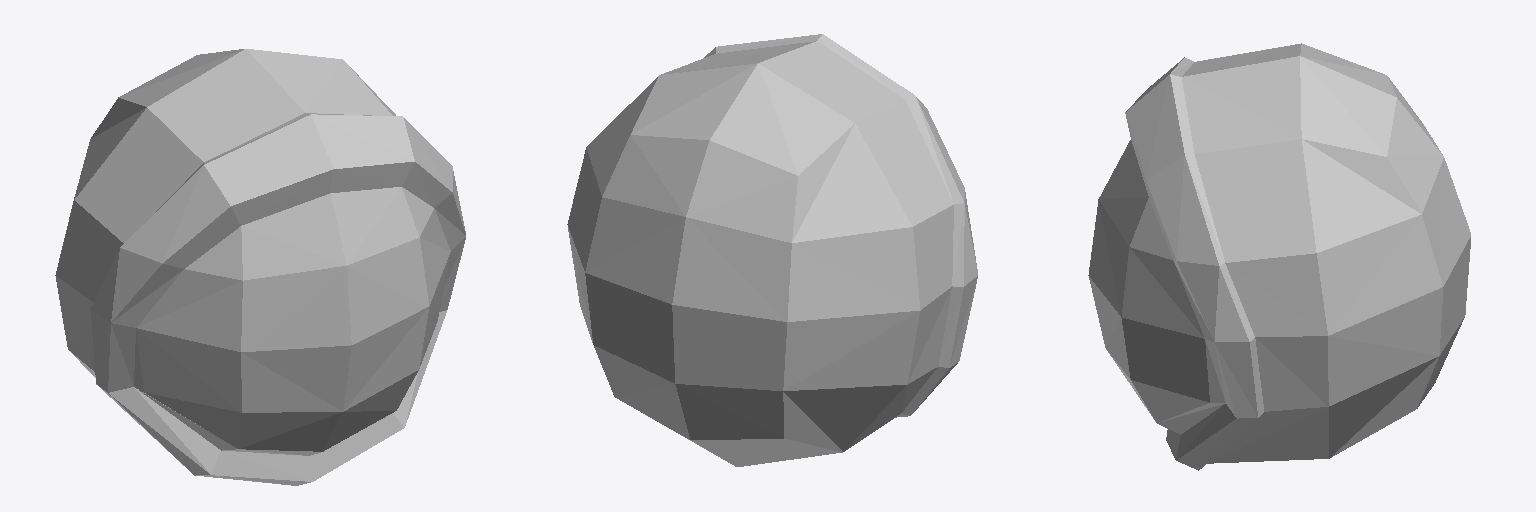
File: Helmet.obj
The picture shows the model from 3 angles: view 1: azimuth 30°, elevation 25°; view 2: azimuth 150°, elevation 25°; view 3: azimuth 270°, elevation 25°; orthographic projection.
Parts seen in each view (by area): view 1: Astronaut; view 2: Astronaut; view 3: Astronaut.
Boxes of the visible parts, box(x1,y1,x2,y2) form: Astronaut: box(55, 49, 465, 485); Astronaut: box(567, 34, 977, 466); Astronaut: box(1088, 43, 1470, 470).
Bounding box in the file's own units: 0.8968 × 0.9481 × 0.8228.